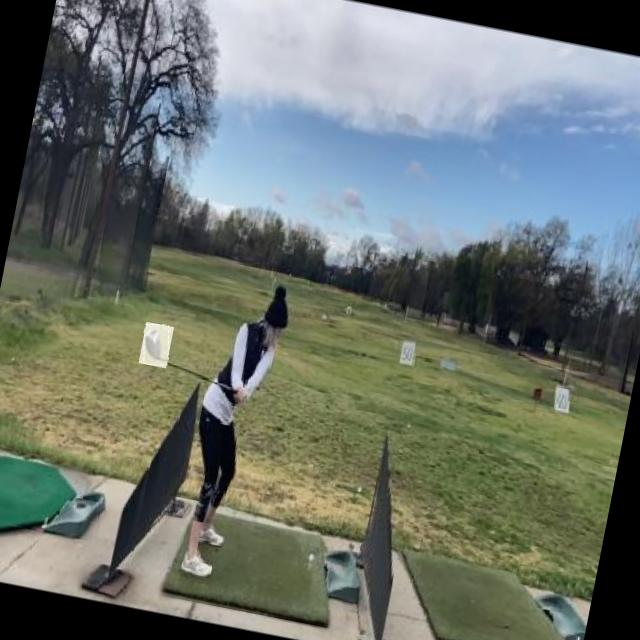club head: (138, 322, 174, 368)
